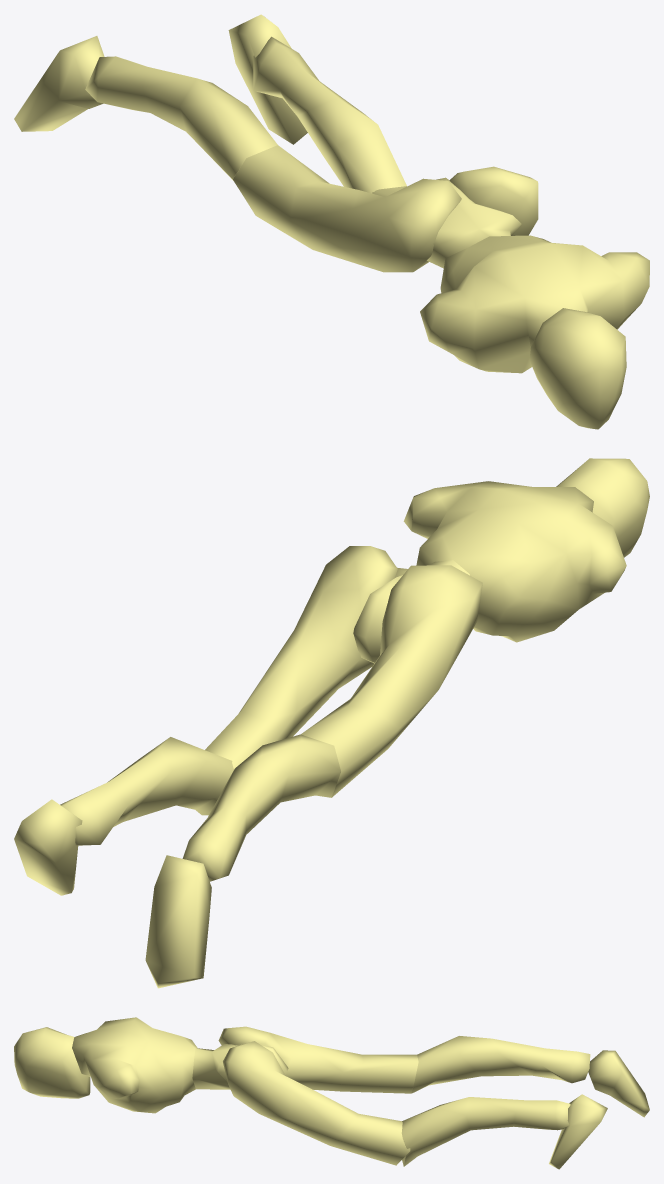
File: filth54.obj
3 views of the same model, one above another, from view 1: azimuth 30°, elevation 25°; view 2: azimuth 150°, elevation 25°; view 3: azimuth 270°, elevation 25° (orthographic). The views are drawn at different scales.
Visible parts, largest first — view 1: Melee_Husk; view 2: Melee_Husk; view 3: Melee_Husk.
Part boxes in pixels (<box>): Melee_Husk: <box>14,14,649,429</box>; Melee_Husk: <box>14,458,649,988</box>; Melee_Husk: <box>14,1017,649,1169</box>.
Size of the model in its own units: 23.66 by 16.66 by 85.79.
